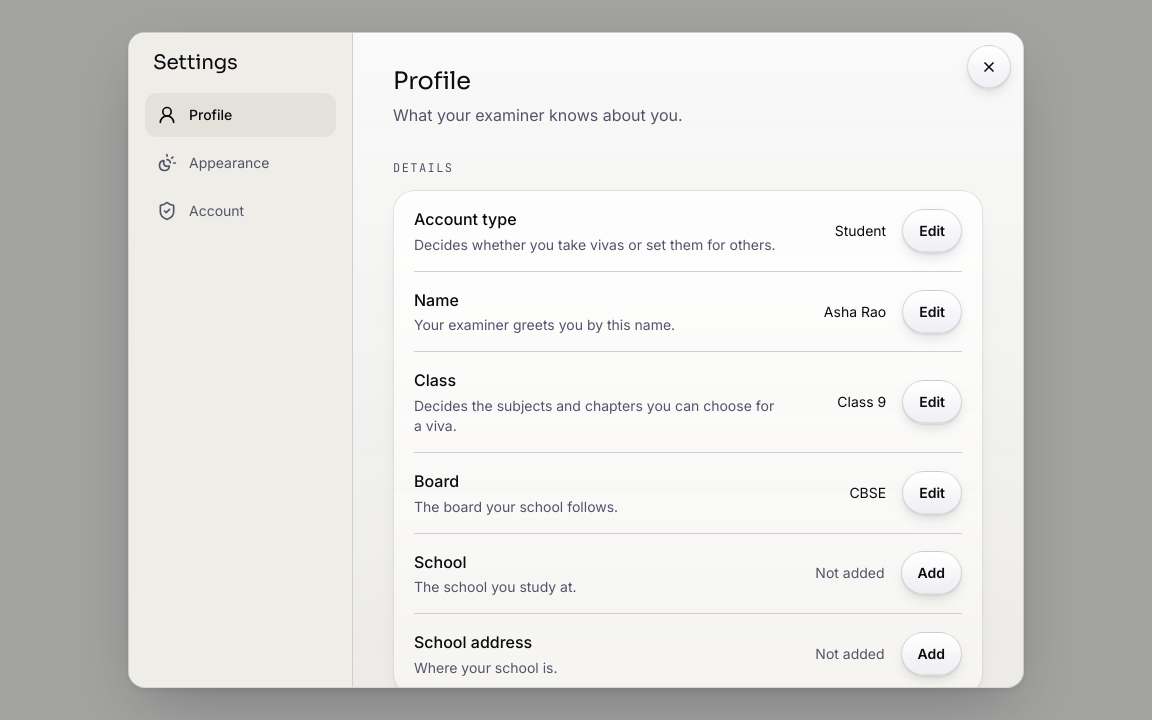
Test: changing a detail › only one row is open at a time
This screenshot has width=1152, height=720.
Click the button with aria-label "Edit name".
click(932, 312)  # box 902,290 -> 962,334
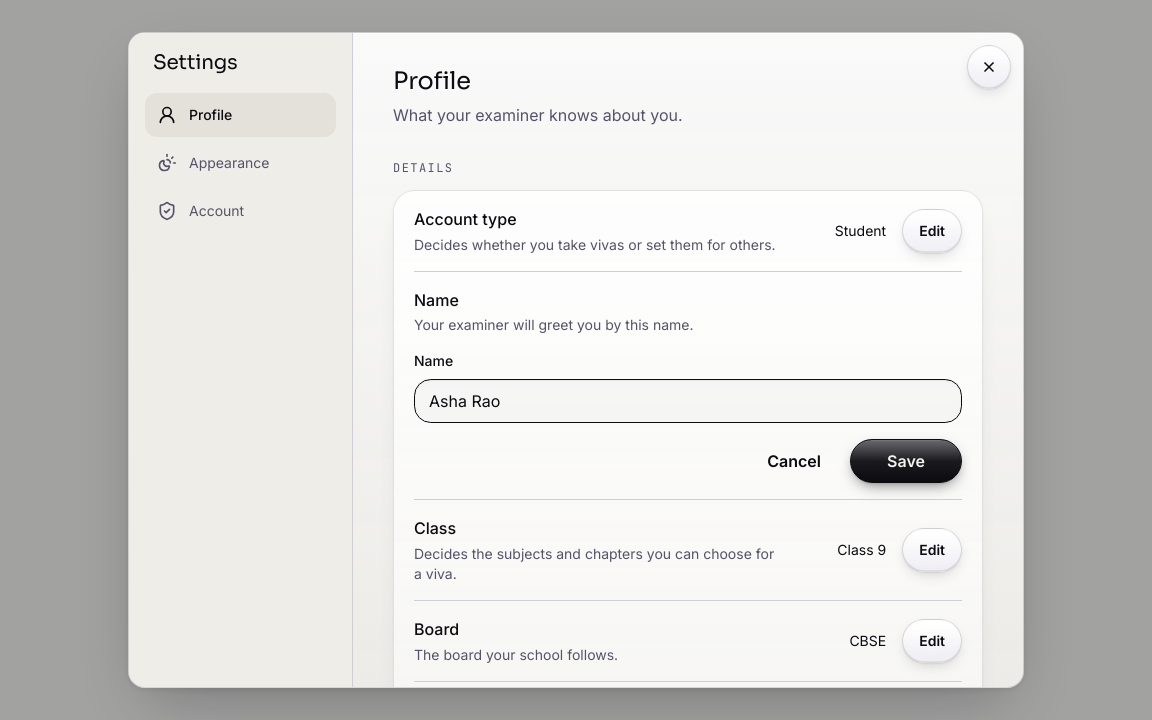
Click the button with aria-label "Edit class".
click(932, 550)  # box 902,528 -> 962,572
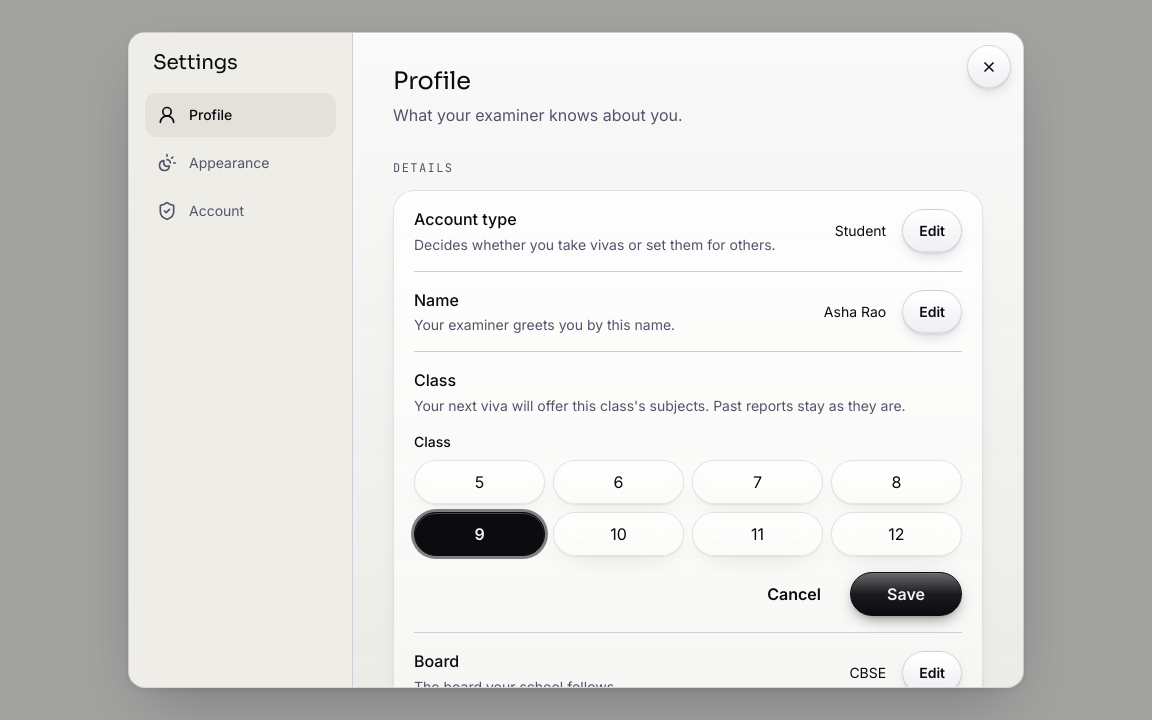
expect the element named "Class" is shown: met, box 414,460 -> 962,556
expect the button with aria-label "Edit name" is shown: met, box 902,290 -> 962,334
